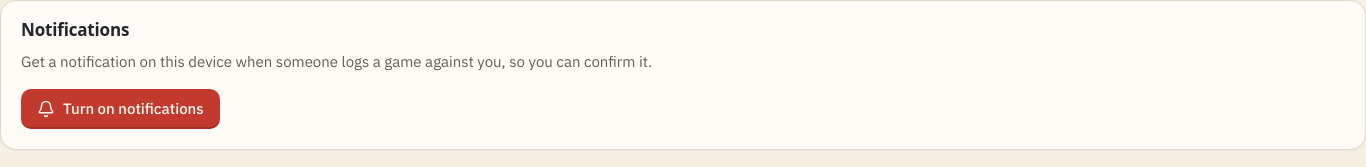
Test case: NotificationsPanel › says it’s blocked when the browser said no
The width and height of the screenshot is (1366, 167).
Click the button "Turn on notifications" at (120, 109), box [21, 89, 220, 129]
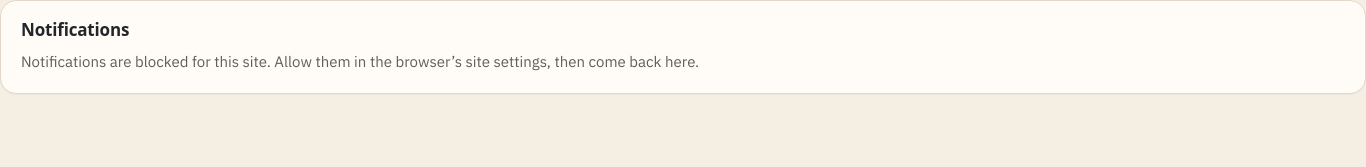
Check: the text "Notifications are blocked for this site. Allow them in the browser’s site settings, then come back here." is shown, box [21, 52, 699, 70]
